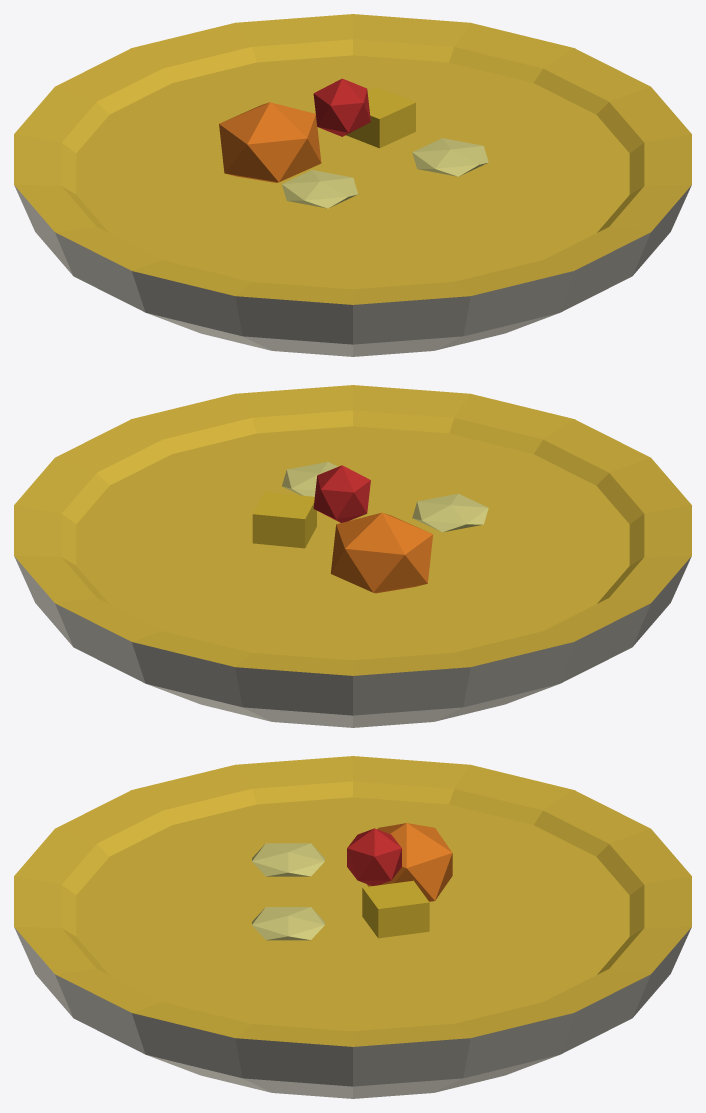
Rendered from Tropical_Feast.glb.
3 renders of one model, top to bottom at view 1: azimuth 30°, elevation 25°; view 2: azimuth 150°, elevation 25°; view 3: azimuth 270°, elevation 25°, orthographic.
Parts seen in each view (by area): view 1: _I_TropicalFeast; view 2: _I_TropicalFeast; view 3: _I_TropicalFeast.
Boxes of the visible parts, x1,y1,x2,y2 form: _I_TropicalFeast: (14,14,691,356); _I_TropicalFeast: (14,385,691,727); _I_TropicalFeast: (14,756,691,1098).
Bounding box in the file's own units: 0.64 × 0.195 × 0.6303.
